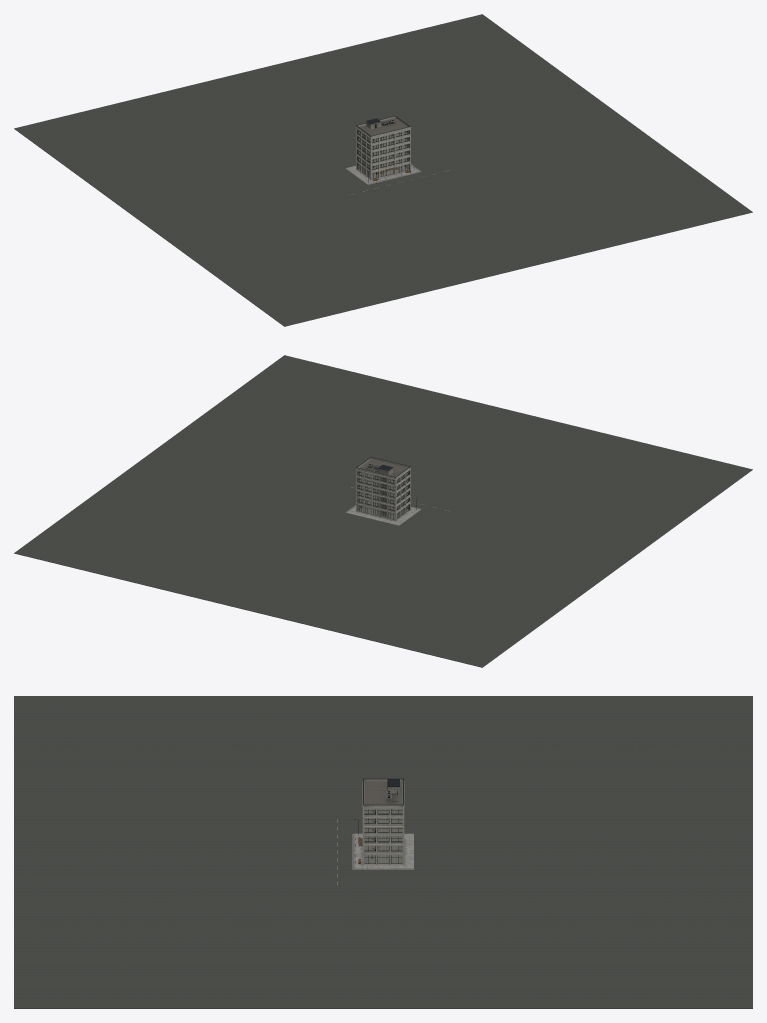
File: mobile-building.glb
3 views of the same model, one above another, from view 1: azimuth 30°, elevation 25°; view 2: azimuth 150°, elevation 25°; view 3: azimuth 270°, elevation 25° (orthographic). The views are drawn at different scales.
Visible parts, largest first — view 1: static_environment.001; view 2: static_environment.001; view 3: static_environment.001.
Part boxes in pixels (bbox=[...]): static_environment.001: bbox=[14, 14, 752, 326]; static_environment.001: bbox=[14, 355, 752, 667]; static_environment.001: bbox=[14, 696, 752, 1008].
Bounding box in the file's own units: 240 × 23.6 × 240.
2 materials, 1 textured.
